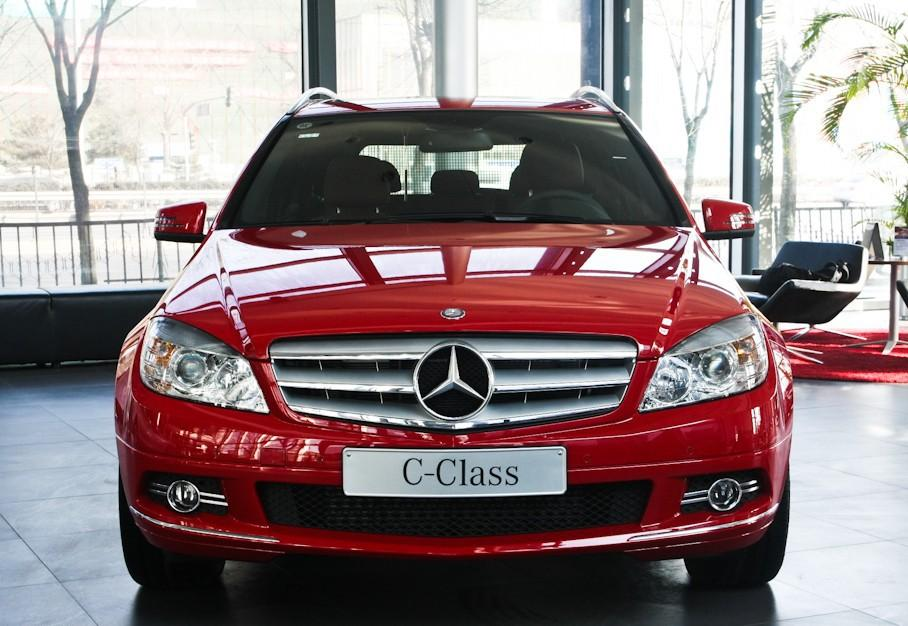Wagon: (115, 98, 793, 588)
